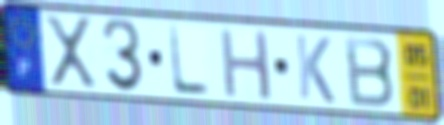3: (99, 18, 146, 95)
B: (341, 34, 398, 111)
H: (218, 25, 275, 103)
K: (292, 31, 337, 107)
L: (166, 22, 212, 99)
X: (41, 13, 100, 90)
